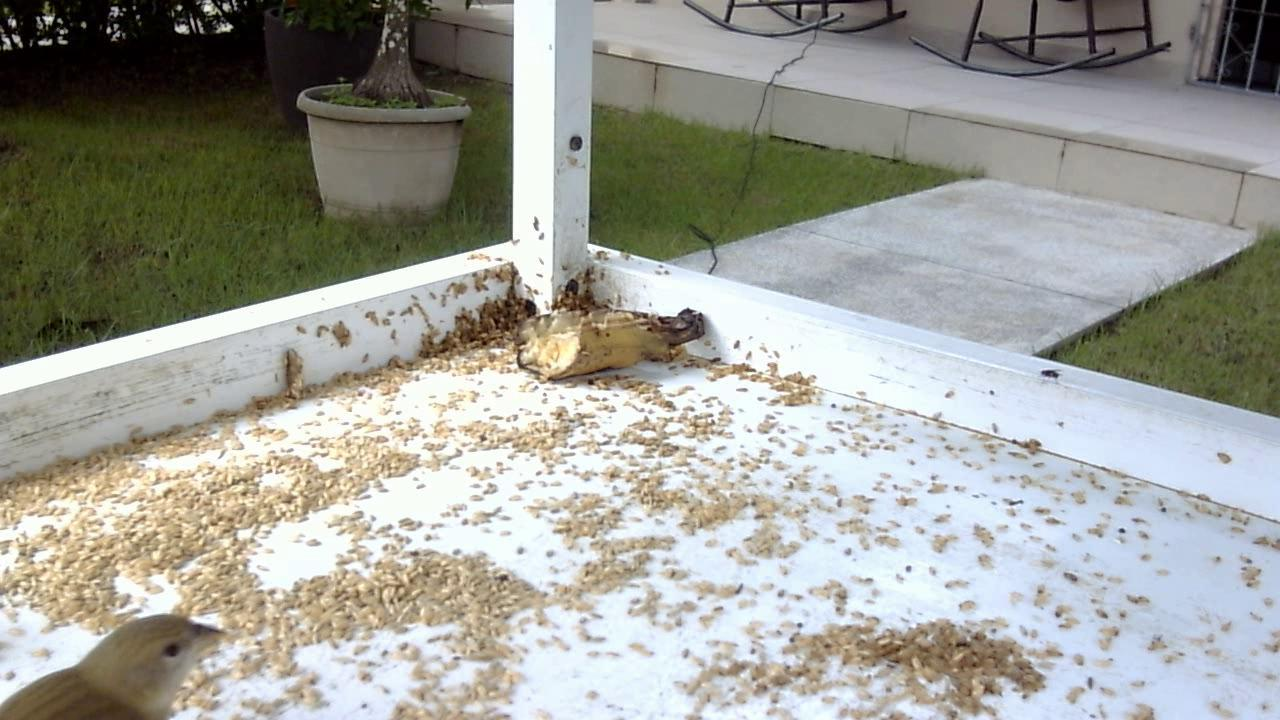canario_do_amazonas: (1, 604, 239, 718)
